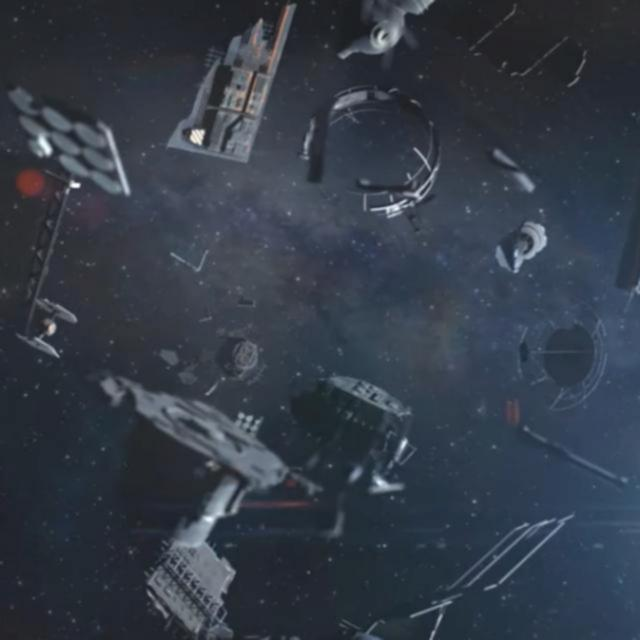large_debris: (299, 500, 597, 640), (6, 74, 144, 369), (75, 376, 283, 567), (289, 86, 466, 241), (155, 0, 309, 174), (328, 0, 638, 76), (289, 362, 443, 506), (497, 294, 627, 421), (480, 387, 633, 487)
medium_debris: (604, 125, 640, 333), (489, 208, 555, 278), (166, 220, 232, 285), (484, 134, 550, 197), (218, 332, 269, 382), (154, 341, 209, 387)
